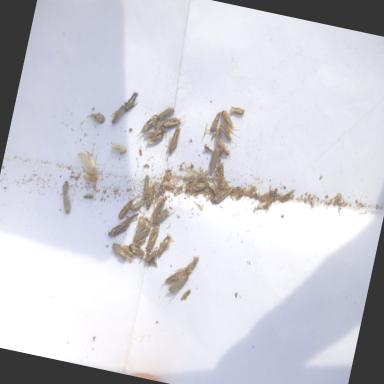pbw: (160, 270, 188, 306), (72, 150, 100, 182), (136, 111, 160, 141), (116, 191, 138, 222), (210, 134, 234, 160), (109, 242, 136, 264), (151, 204, 175, 228), (204, 144, 222, 176), (210, 182, 232, 208), (214, 124, 240, 146), (160, 110, 186, 132), (204, 109, 222, 139), (156, 232, 172, 262), (121, 90, 139, 116), (149, 195, 166, 222), (210, 160, 228, 185), (144, 224, 159, 254), (143, 123, 163, 145), (125, 241, 147, 261), (217, 109, 237, 131), (166, 125, 180, 156), (142, 181, 156, 212), (182, 254, 200, 278), (132, 224, 149, 247), (108, 102, 124, 126), (140, 174, 153, 201), (59, 192, 73, 215), (85, 111, 106, 126), (189, 178, 208, 194), (143, 246, 158, 266), (132, 219, 146, 240), (128, 196, 144, 214), (109, 142, 128, 156), (181, 168, 197, 184), (158, 104, 174, 120), (60, 180, 69, 199), (228, 106, 244, 116)
